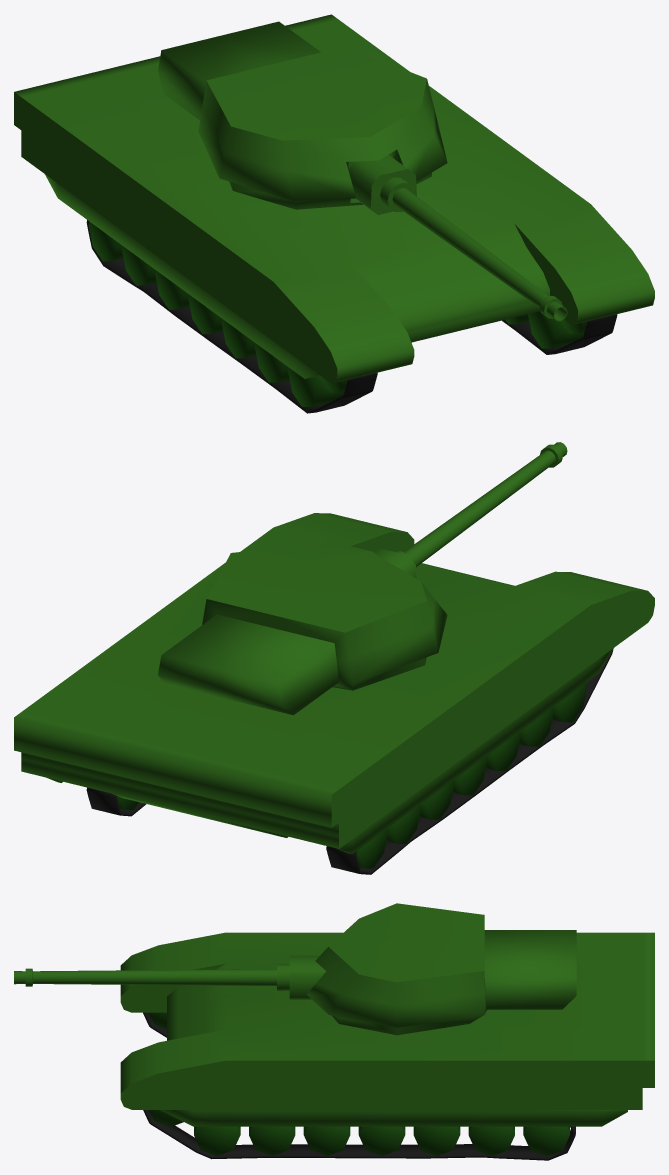
Rendered from Tank1.fbx.
3 renders of one model, top to bottom at view 1: azimuth 30°, elevation 25°; view 2: azimuth 150°, elevation 25°; view 3: azimuth 270°, elevation 25°, orthographic. The views are drawn at different scales.
Visible parts, largest first — view 1: Cube, Cube.001, Cylinder.004, Cube.002, Cube.004, Cube.003; view 2: Cube, Cube.001, Cylinder.004, Cube.003, Cube.002, Cube.004; view 3: Cube, Cube.001, Cylinder.004, Cube.003, Cube.002, Cube.004.
Boxes of the visible parts, <box> form: Cube: <box>14,14,654,383</box>; Cube.001: <box>158,21,447,209</box>; Cylinder.004: <box>88,222,586,406</box>; Cube.002: <box>348,154,567,321</box>; Cube.004: <box>86,220,617,413</box>; Cube.003: <box>45,174,319,378</box>; Cube: <box>14,513,654,848</box>; Cube.001: <box>158,547,447,715</box>; Cylinder.004: <box>116,683,587,868</box>; Cube.003: <box>47,648,613,853</box>; Cube.002: <box>374,442,567,578</box>; Cube.004: <box>86,650,613,874</box>; Cube: <box>120,932,654,1109</box>; Cube.001: <box>306,903,576,1035</box>; Cylinder.004: <box>149,1012,569,1156</box>; Cube.003: <box>160,1110,627,1126</box>; Cube.002: <box>14,955,326,999</box>; Cube.004: <box>143,1012,575,1160</box>.
Bounding box in the file's own units: 530 × 316 × 1121.
